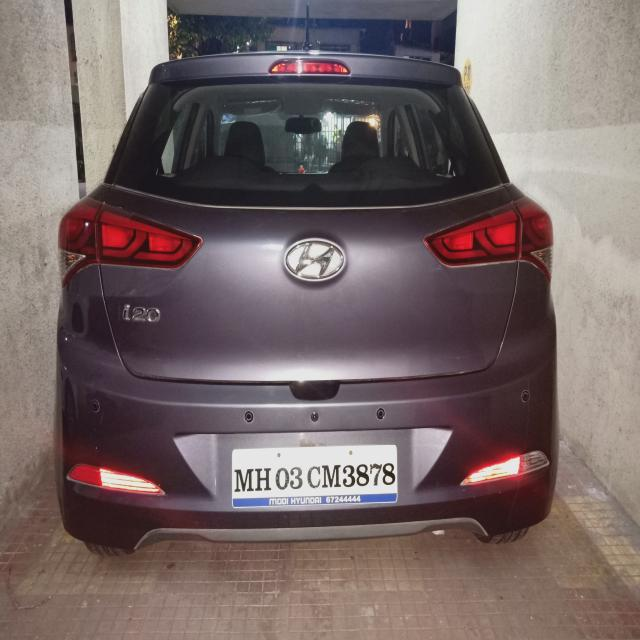Number-Plate: (235, 447, 402, 497)
